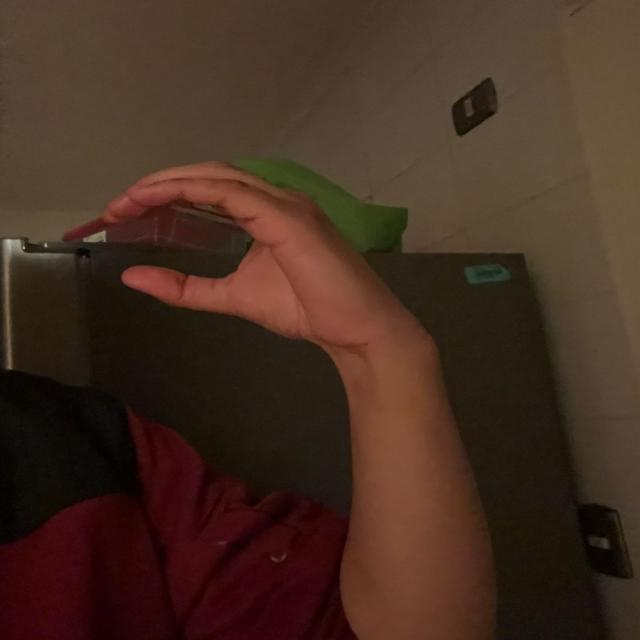C: (96, 149, 380, 346)
